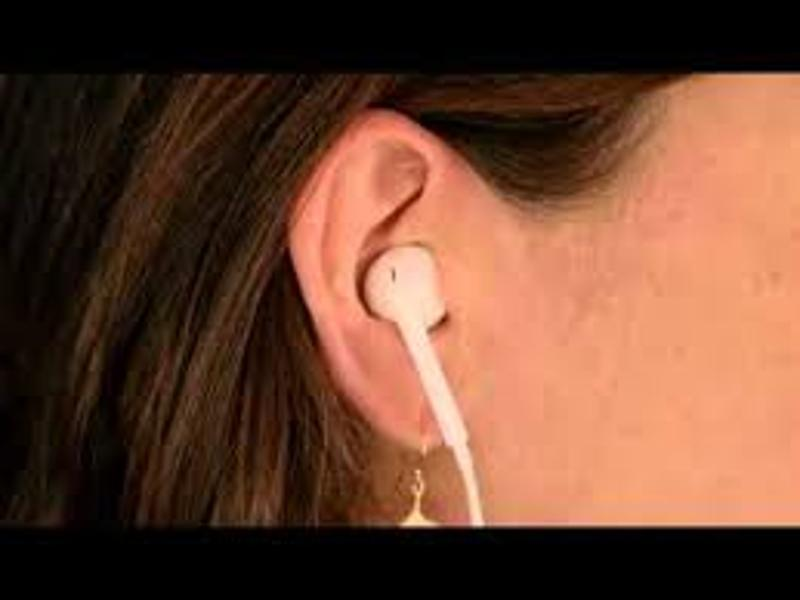headphone: (365, 242, 446, 337)
